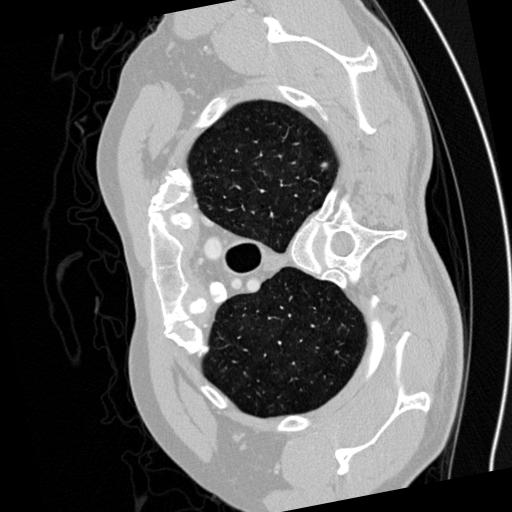nodule: (317, 157, 332, 172)
